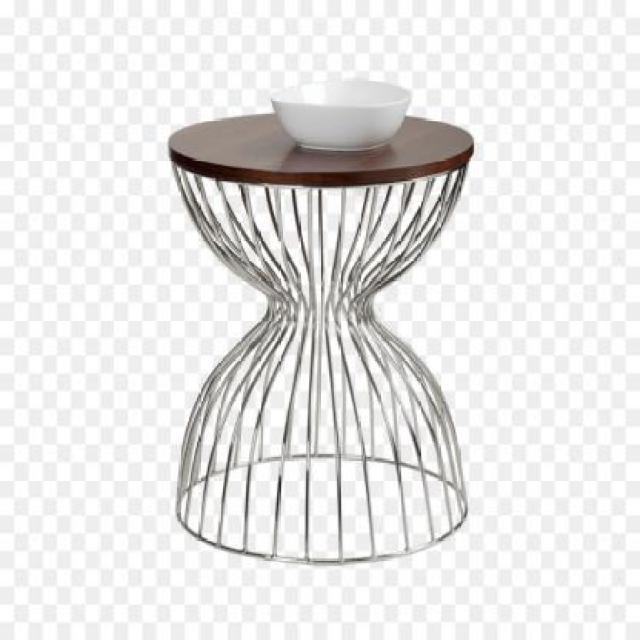table: (165, 76, 478, 562)
